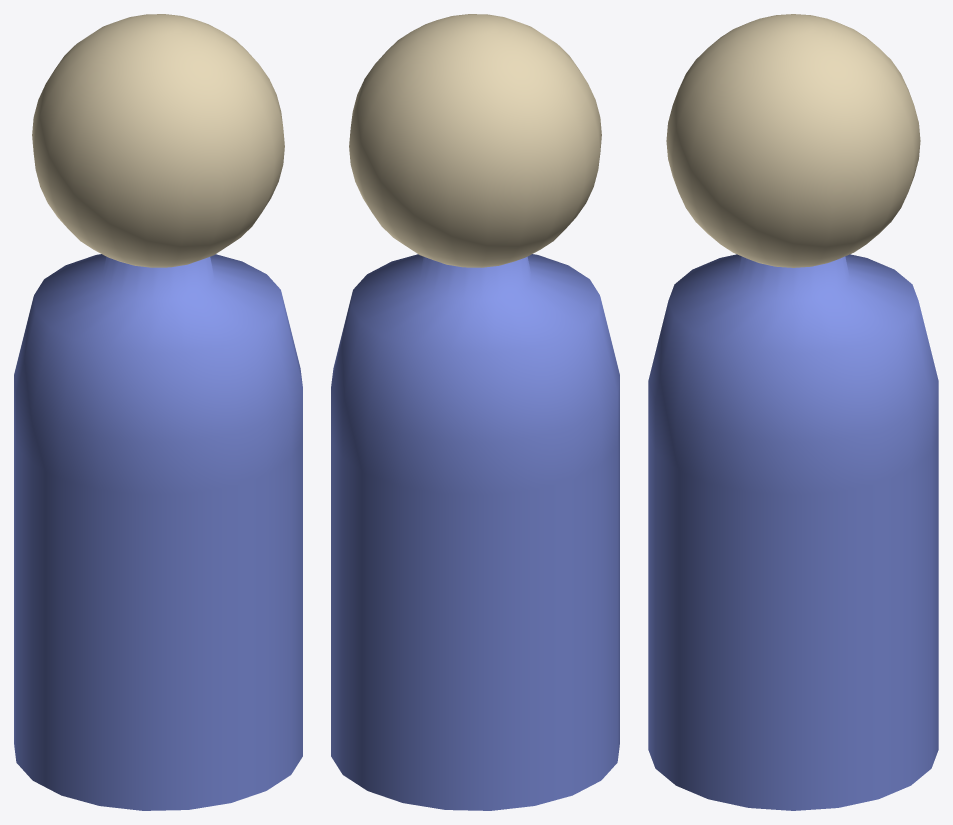
Rendered from P_gareth.fbx.
The picture shows the model from 3 angles, left to right: view 1: azimuth 30°, elevation 25°; view 2: azimuth 150°, elevation 25°; view 3: azimuth 270°, elevation 25°; orthographic projection.
Visible parts, largest first — view 1: pCylinder2; view 2: pCylinder2; view 3: pCylinder2.
Boxes of the visible parts, x1,y1,x2,y2 form: pCylinder2: [14, 14, 302, 810]; pCylinder2: [331, 14, 619, 810]; pCylinder2: [648, 14, 938, 810].
Size of the model in its own units: 80 by 220 by 80.
